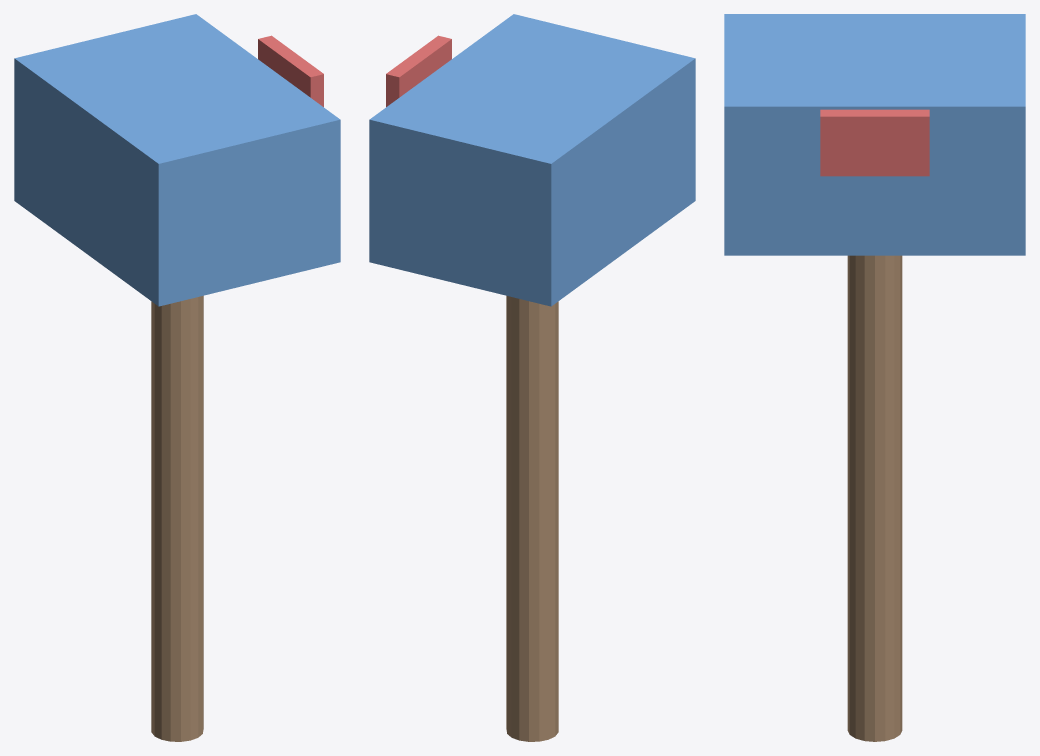
The model's file is pr-mailbox.glb.
The picture shows the model from 3 angles, left to right: view 1: azimuth 30°, elevation 25°; view 2: azimuth 150°, elevation 25°; view 3: azimuth 270°, elevation 25°; orthographic projection. The views are drawn at different scales.
Parts seen in each view (by area): view 1: post; view 2: post; view 3: post.
Boxes of the visible parts, left/top/right/bottom form: post: left=14, top=14, right=340, bottom=741; post: left=369, top=14, right=695, bottom=741; post: left=724, top=14, right=1025, bottom=741.
Size of the model in its own units: 0.465 by 1.36 by 0.55.
